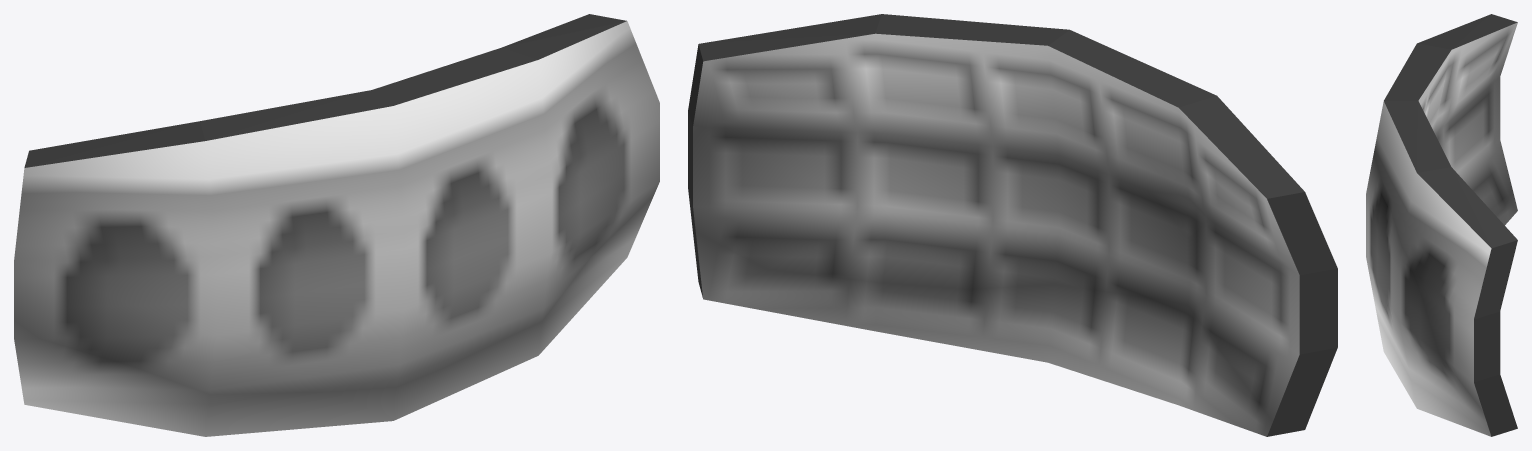
Rendered from huston3.obj.
3 views of the same model, side by side, from view 1: azimuth 30°, elevation 25°; view 2: azimuth 150°, elevation 25°; view 3: azimuth 270°, elevation 25° (orthographic). The views are drawn at different scales.
Parts seen in each view (by area): view 1: ColobotMesh_1_ColobotMesh_; view 2: ColobotMesh_1_ColobotMesh_; view 3: ColobotMesh_1_ColobotMesh_.
Part boxes in pixels (left/top/right/bottom): ColobotMesh_1_ColobotMesh_: left=14, top=14, right=659, bottom=436; ColobotMesh_1_ColobotMesh_: left=688, top=14, right=1337, bottom=436; ColobotMesh_1_ColobotMesh_: left=1366, top=14, right=1517, bottom=436.
Bounding box in the file's own units: 8.57 × 3.99 × 2.19.
